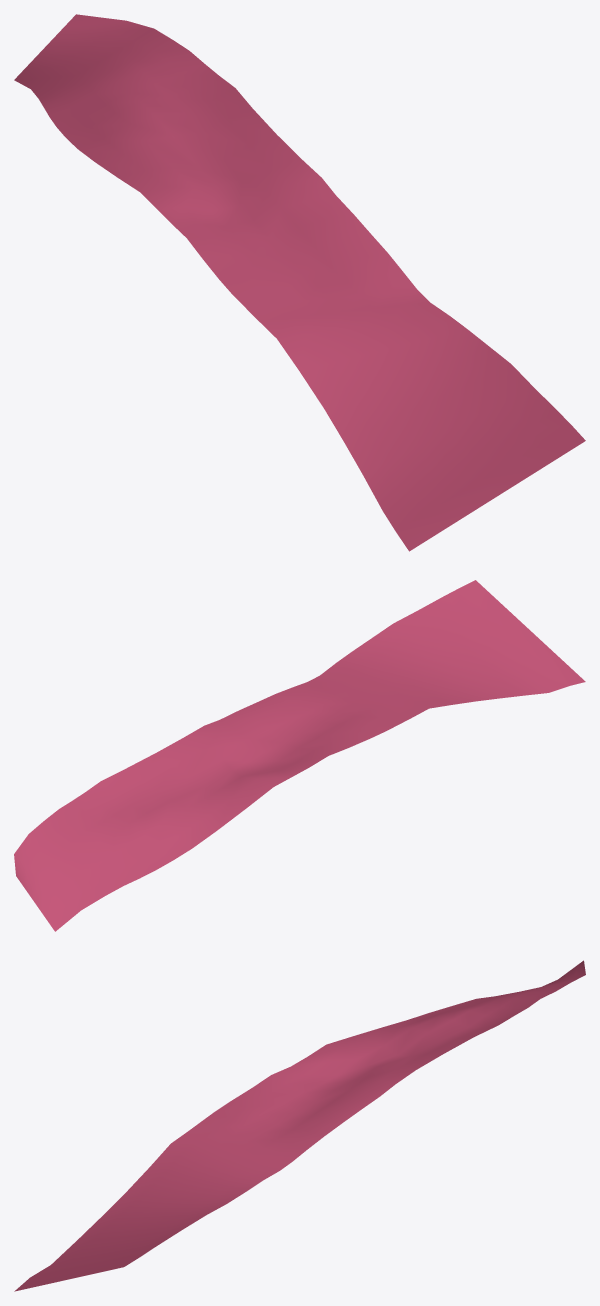
3 views of the same model, one above another, from view 1: azimuth 30°, elevation 25°; view 2: azimuth 150°, elevation 25°; view 3: azimuth 330°, elevation 25° (orthographic). The views are drawn at different scales.
Visible parts, largest first — view 1: 左侧臂内侧肌间隔; view 2: 左侧臂内侧肌间隔; view 3: 左侧臂内侧肌间隔.
Part boxes in pixels (x1=…): 左侧臂内侧肌间隔: x1=14, y1=14, x2=585, y2=551; 左侧臂内侧肌间隔: x1=14, y1=580, x2=585, y2=931; 左侧臂内侧肌间隔: x1=14, y1=960, x2=585, y2=1291.
Size of the model in its own units: 0.0511 by 0.0226 by 0.2086.
